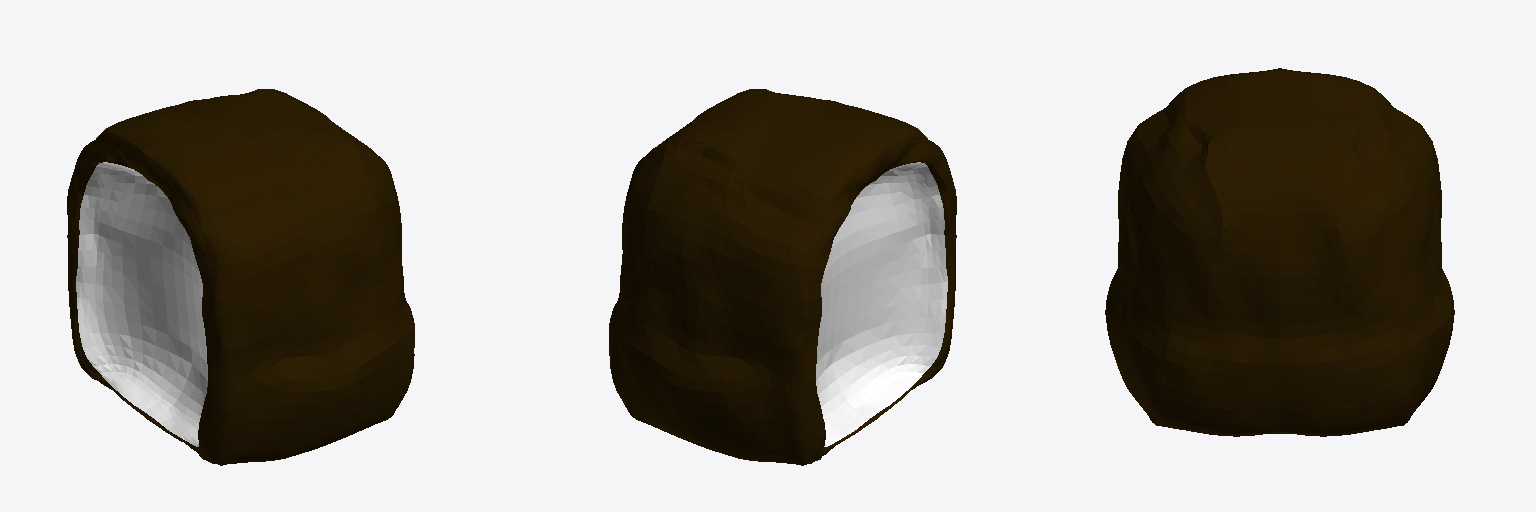
The model's file is caveentrance2.obj.
3 views of the same model, side by side, from view 1: azimuth 30°, elevation 25°; view 2: azimuth 150°, elevation 25°; view 3: azimuth 270°, elevation 25° (orthographic).
Parts seen in each view (by area): view 1: PM3D_caveentrance2:Group47668; view 2: PM3D_caveentrance2:Group47668; view 3: PM3D_caveentrance2:Group47668.
Boxes of the visible parts, x1=… form: PM3D_caveentrance2:Group47668: x1=67, y1=89, x2=414, y2=465; PM3D_caveentrance2:Group47668: x1=609, y1=89, x2=956, y2=465; PM3D_caveentrance2:Group47668: x1=1105, y1=68, x2=1454, y2=436.
Bounding box in the file's own units: 1.3 × 1.45 × 1.66.